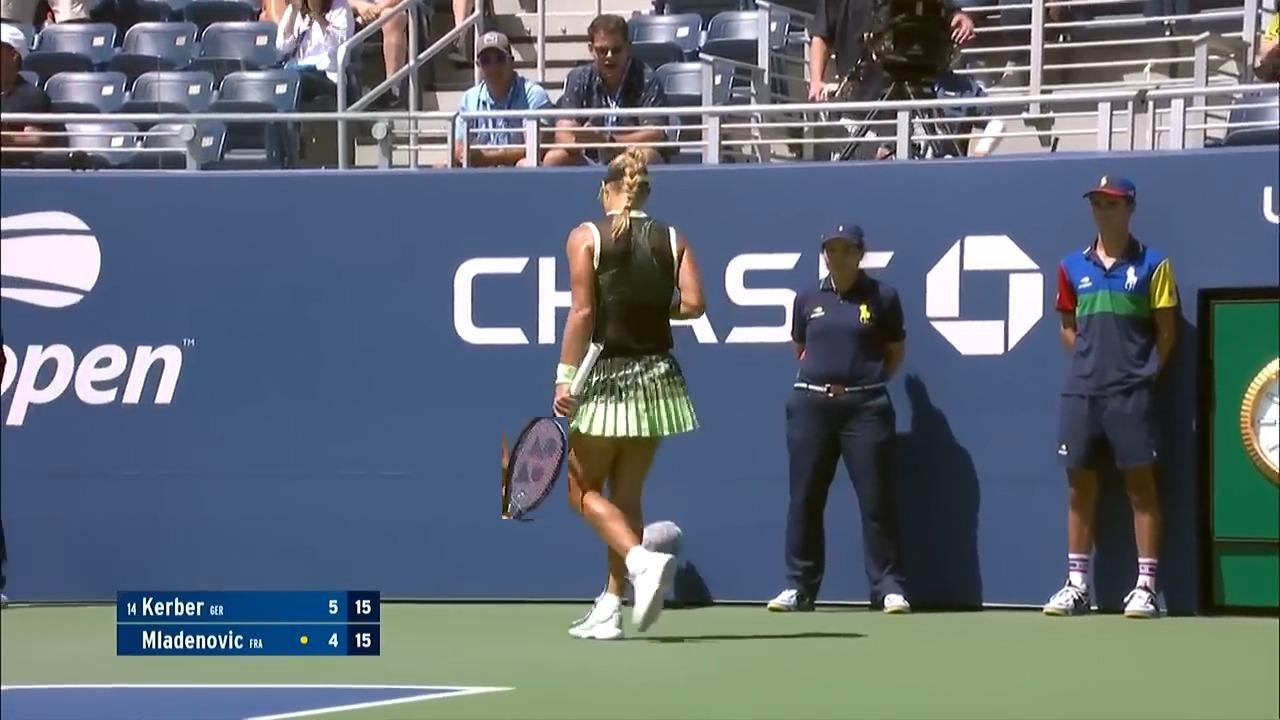tennis racket: (502, 418, 568, 518), (570, 343, 602, 397)
